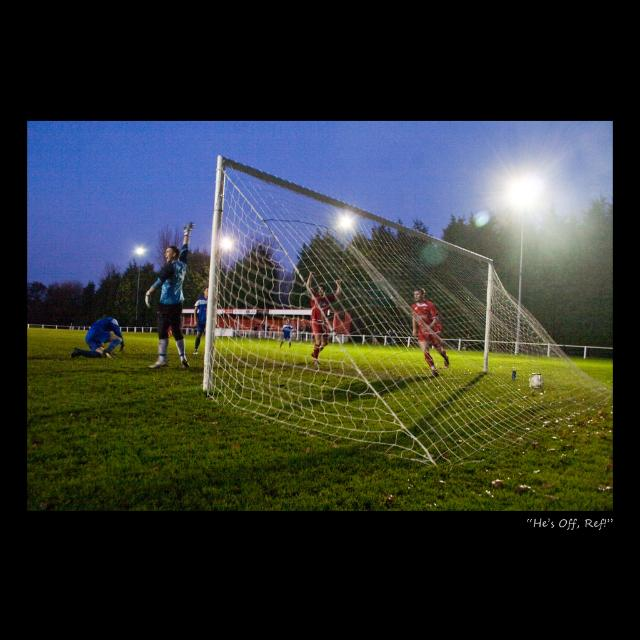Football: (529, 374, 541, 388)
